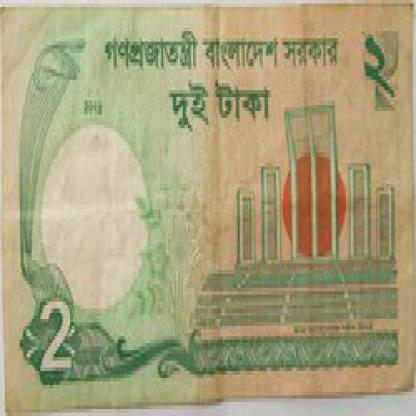two taka: (37, 288, 98, 395), (354, 31, 401, 132)
